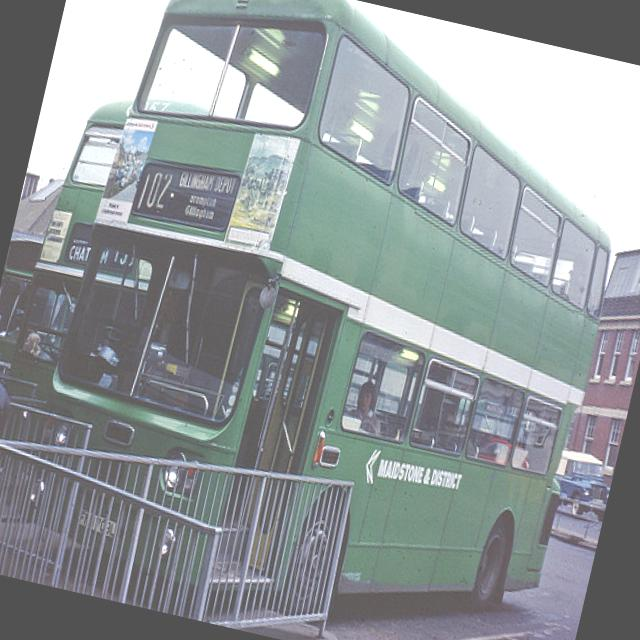Vehicle: (20, 0, 640, 633), (3, 84, 132, 398), (0, 234, 43, 369), (546, 443, 617, 523)
